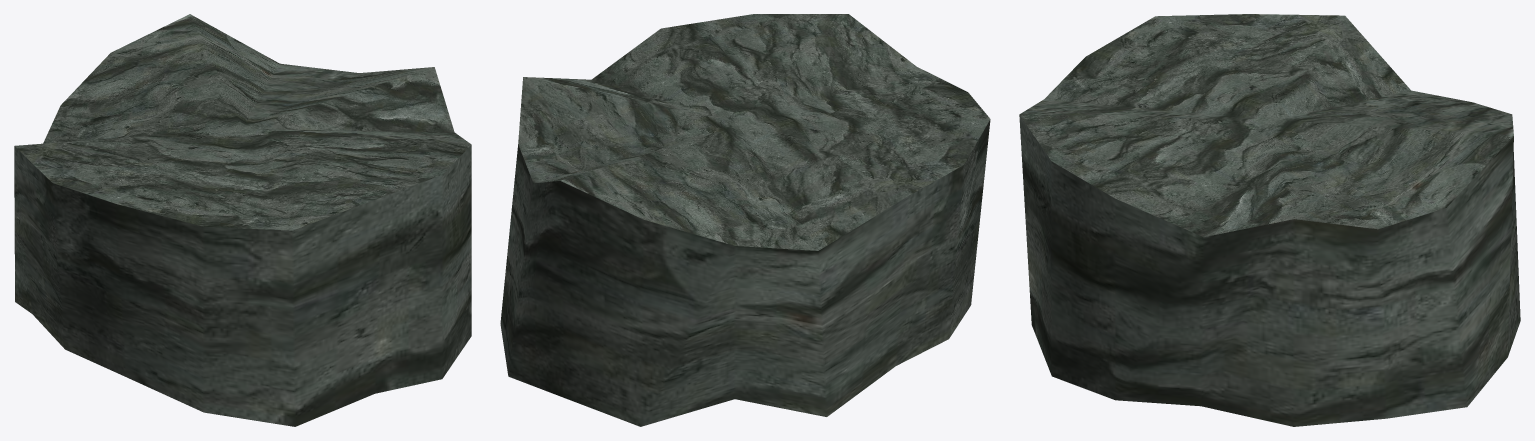
File: rock_2.glb
The picture shows the model from 3 angles, left to right: view 1: azimuth 30°, elevation 25°; view 2: azimuth 150°, elevation 25°; view 3: azimuth 270°, elevation 25°; orthographic projection. The views are drawn at different scales.
Parts seen in each view (by area): view 1: 2-512 (×2); view 2: 2-512 (×2); view 3: 2-512 (×2).
Part boxes in pixels (x1,y1,x2,y2): 2-512 (×2): (14, 14, 471, 426); 2-512 (×2): (500, 14, 990, 426); 2-512 (×2): (1019, 14, 1520, 426).
Size of the model in its own units: 11.13 by 5.86 by 11.37.
1 material, 1 textured.
